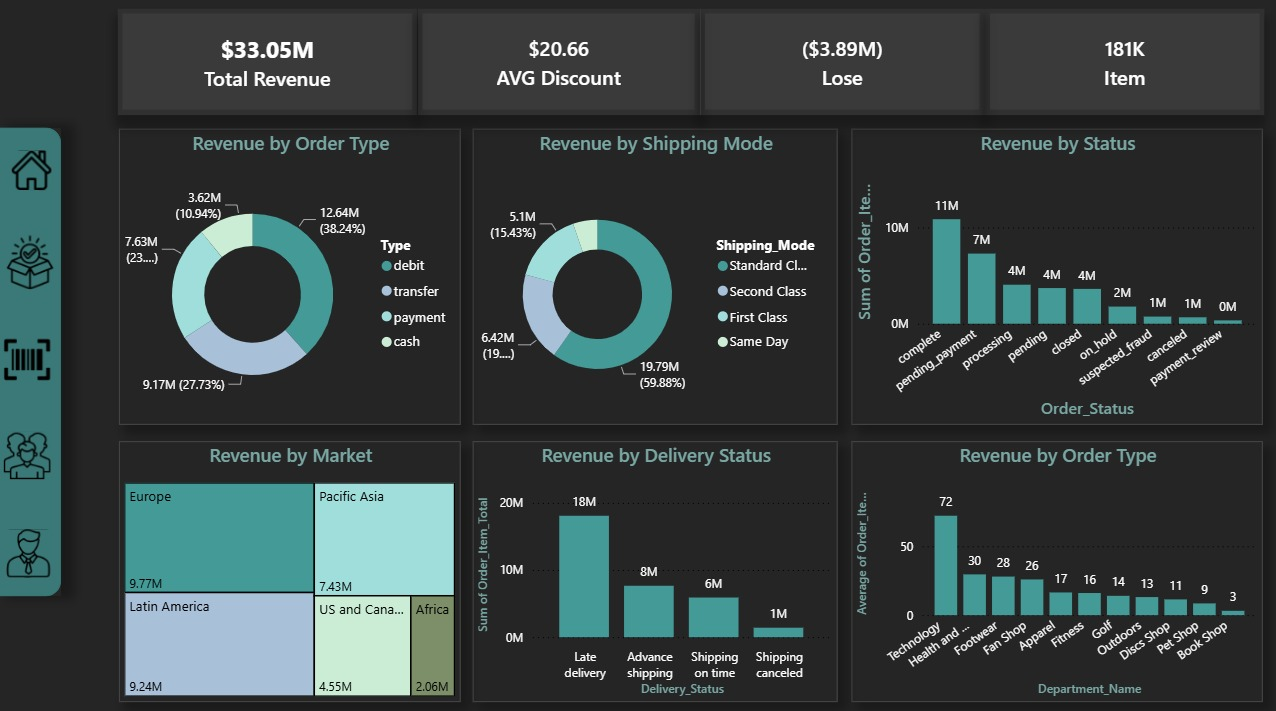

The page's visual inventory and layout, read from the dashboard file:
{"tool":"powerbi","page":{"name":"Orders","canvas":[1280,720],"ordinal":1},"visuals":[{"type":"shape","box":[0,132.7,62,468.9],"z":0,"group":"g1"},{"type":"columnChart","title":"Revenue by Status","fields":{"Category":["Gold FactOrders.Order_Status"],"Y":["Sum(Gold FactOrders.Order_Item_Total)"]},"box":[852.7,134.2,411.2,295.8],"z":0},{"type":"donutChart","title":"Revenue by Shipping Mode","fields":{"Category":["Gold FactOrders.Shipping_Mode"],"Y":["Sum(Gold FactOrders.Order_Item_Total)"]},"box":[473.2,134.2,365,295.8],"z":1000},{"type":"actionButton","box":[8.7,147.1,47.6,56.3],"z":1000,"group":"g1"},{"type":"donutChart","title":"Revenue by Order Type","fields":{"Category":["Gold FactOrders.Type"],"Y":["Sum(Gold FactOrders.Order_Item_Total)"]},"box":[119.7,134.2,341.9,295.8],"z":2000},{"type":"actionButton","box":[0,235.5,62,64.9],"z":2000,"group":"g1"},{"type":"actionButton","box":[0,332.5,56.3,64.9],"z":3000,"group":"g1"},{"type":"columnChart","title":"Revenue by Order Type","fields":{"Category":["Gold DimProducts.Department_Name"],"Y":["Avg(Gold FactOrders.Order_Item_Discount)"]},"box":[852.7,445.8,411.2,261.1],"z":3000},{"type":"actionButton","box":[0,429.5,56.3,64.9],"z":4000,"group":"g1"},{"type":"treemap","title":"Revenue by Market","fields":{"Group":["Gold FactOrders.Market"],"Values":["Sum(Gold FactOrders.Order_Item_Total)"]},"box":[119.7,445.8,341.9,261.1],"z":4000},{"type":"columnChart","title":"Revenue by Delivery Status","fields":{"Category":["Gold FactOrders.Delivery_Status"],"Y":["Sum(Gold FactOrders.Order_Item_Total)"]},"box":[473.2,445.8,365,261.1],"z":5000},{"type":"actionButton","box":[1.4,526.6,56.3,64.9],"z":5000,"group":"g1"},{"type":"group","id":"g1","title":"Group 1","box":[0,132.7,62,468.9],"z":6000},{"type":"cardVisual","fields":{"Data":["_Measures.Total Revenue"]},"box":[119.2,14.2,299,106.8],"z":7000},{"type":"cardVisual","fields":{"Data":["_Measures.AVG Discount"]},"box":[418.2,14.2,283,106.8],"z":8000},{"type":"cardVisual","fields":{"Data":["_Measures.Lose"]},"box":[701.2,14.2,284.8,106.8],"z":9000},{"type":"cardVisual","fields":{"Data":["_Measures.Item"]},"box":[986,14.2,279.4,106.8],"z":10000}]}

Visuals, with their boxes on the page's 1280x720 design canvas (x1, y1, x2, y2). These are canvas units, not pixel positions in the 1276x711 screenshot, which may show the page scaled, cropped or inside an application window:
shape: region(0, 133, 62, 602)
"Revenue by Status" columnChart: region(853, 134, 1264, 430)
"Revenue by Shipping Mode" donutChart: region(473, 134, 838, 430)
actionButton: region(9, 147, 56, 203)
"Revenue by Order Type" donutChart: region(120, 134, 462, 430)
actionButton: region(0, 236, 62, 300)
actionButton: region(0, 332, 56, 397)
"Revenue by Order Type" columnChart: region(853, 446, 1264, 707)
actionButton: region(0, 430, 56, 494)
"Revenue by Market" treemap: region(120, 446, 462, 707)
"Revenue by Delivery Status" columnChart: region(473, 446, 838, 707)
actionButton: region(1, 527, 58, 592)
"Group 1" group: region(0, 133, 62, 602)
cardVisual - _Measures.Total Revenue: region(119, 14, 418, 121)
cardVisual - _Measures.AVG Discount: region(418, 14, 701, 121)
cardVisual - _Measures.Lose: region(701, 14, 986, 121)
cardVisual - _Measures.Item: region(986, 14, 1265, 121)
